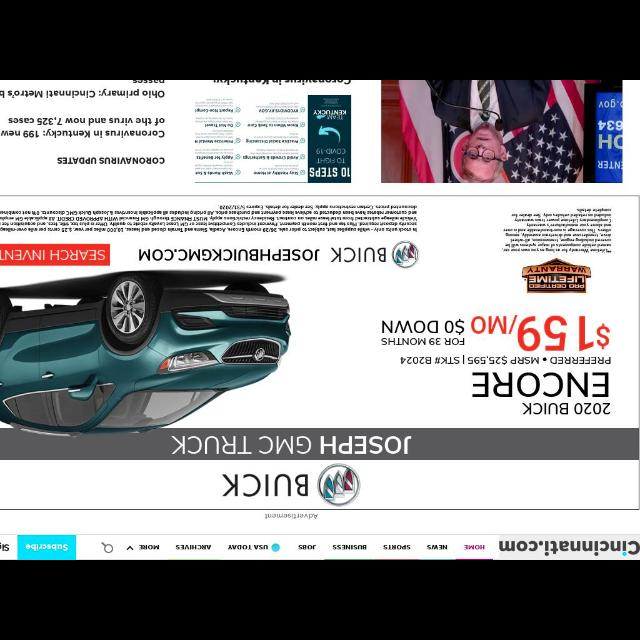icon: (99, 541, 113, 555), (272, 542, 280, 552), (128, 546, 134, 552)
iframe: (1, 196, 640, 534)
image: (382, 81, 622, 183), (192, 93, 350, 183), (499, 535, 639, 559)
multitab: (117, 534, 497, 558)
spinner: (118, 532, 164, 558)
text: (2, 116, 165, 140), (1, 80, 166, 98), (56, 154, 164, 166), (217, 82, 351, 86), (228, 542, 268, 552), (175, 542, 211, 552), (332, 542, 368, 550), (464, 542, 488, 552), (382, 542, 410, 550), (298, 543, 318, 553), (139, 542, 159, 552), (427, 543, 448, 551), (1, 544, 11, 552)
textbutton: (18, 534, 76, 560)
